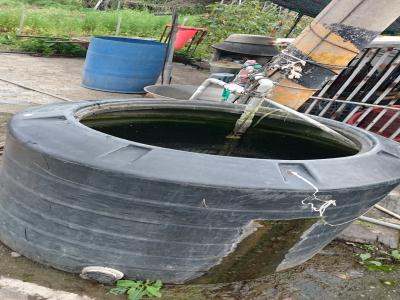bowl: (210, 41, 280, 56), (224, 32, 277, 46)
bucket: (1, 94, 400, 289), (80, 34, 168, 93)
